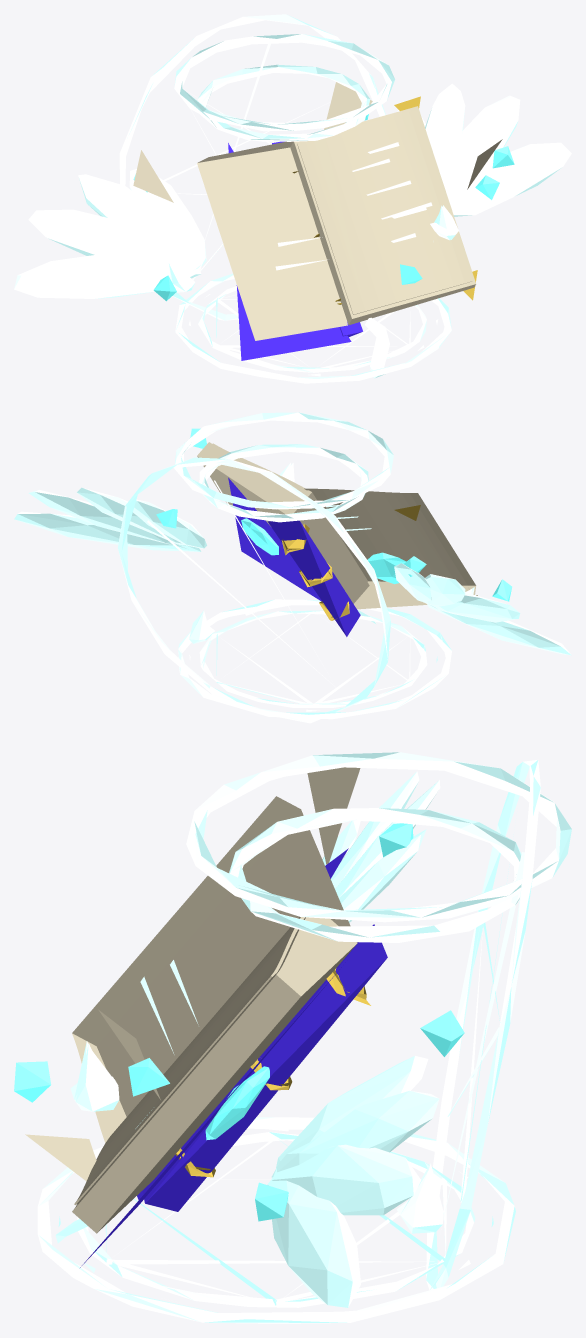
The model's file is tome_9.glb.
The picture shows the model from 3 angles, top to bottom: view 1: azimuth 30°, elevation 25°; view 2: azimuth 150°, elevation 25°; view 3: azimuth 270°, elevation 25°; orthographic projection. The views are drawn at different scales.
Visible parts, largest first — view 1: Page__022, CoverL__002, Book__063, Book__064, Halo__078, Book__067, Book__065, Book__068, CoverR__011, Halo__077, Circle2__079, Circle__033 (+9 smaller); view 2: CoverL__002, Circle2__079, CoverR__011, Halo__078, Circle__033, Halo__077, Book__026, Book__067, Circle__034, CoverR__010, Book__068, Book__063 (+10 smaller); view 3: CoverL__002, CoverR__011, Halo__078, Book__026, Circle2__079, Circle__033, Halo__077, Book__067, Book__068, Page__022, Book__069, Circle__034 (+18 smaller).
Part boxes in pixels (x1,y1,x2,y2): Page__022: (297,110,472,314); CoverL__002: (197,141,347,340); Book__063: (14,254,201,298); Book__064: (28,209,200,270); Halo__078: (174,34,394,131); Book__067: (448,142,571,216); Book__065: (78,174,201,269); Book__068: (442,95,520,196); CoverR__011: (290,106,475,324); Halo__077: (197,64,370,141); Circle2__079: (119,14,385,320); Circle__033: (175,273,451,383); CoverL__002: (304,488,476,609); Circle2__079: (118,457,390,723); CoverR__011: (197,442,369,603); Halo__078: (174,412,393,509); Circle__033: (178,599,451,719); Halo__077: (199,444,368,522); Book__026: (268,520,360,636); Book__067: (14,511,201,551); Circle__034: (199,610,427,707); CoverR__010: (228,477,321,601); Book__068: (28,489,198,548); Book__063: (427,604,571,655); CoverL__002: (72,796,357,1142); CoverR__011: (72,917,357,1233); Halo__078: (186,752,571,922); Book__026: (142,924,387,1211); Circle2__079: (426,760,540,1290); Circle__033: (37,1117,515,1323); Halo__077: (229,808,521,942); Book__067: (267,1178,360,1307); Book__068: (272,1144,420,1215); Page__022: (74,916,304,1204); Book__069: (271,1090,439,1177); Circle__034: (77,1132,475,1307).
Size of the model in its own units: 0.5477 by 0.2591 by 0.2706.
